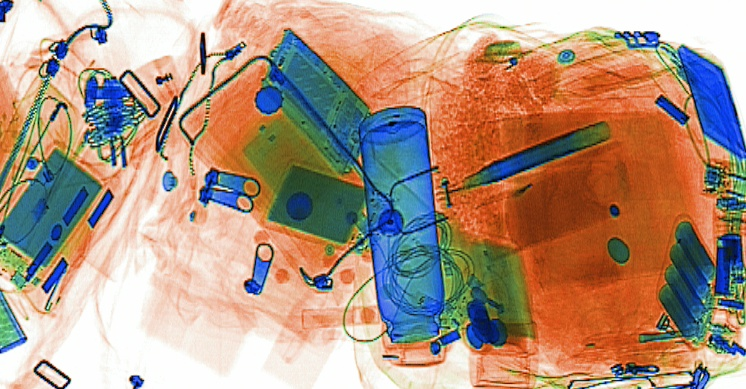powerbank: (652, 211, 717, 351)
